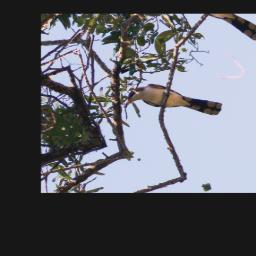Cuckoo: (122, 68, 227, 141)
